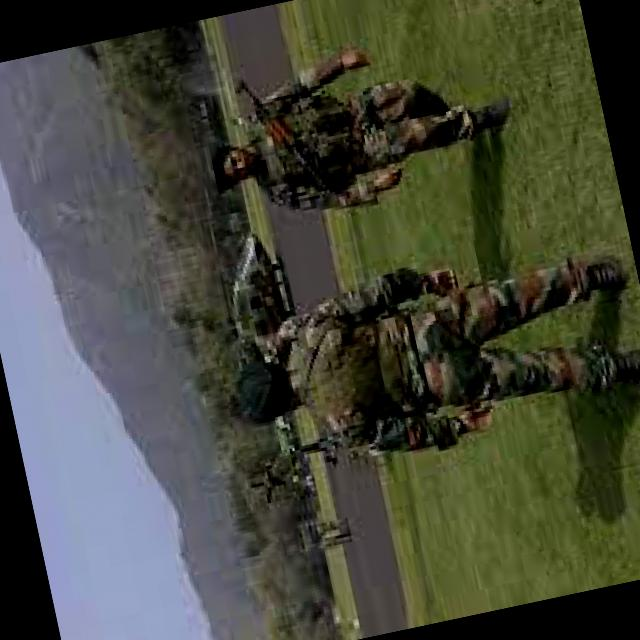long weapon: (223, 43, 389, 245)
